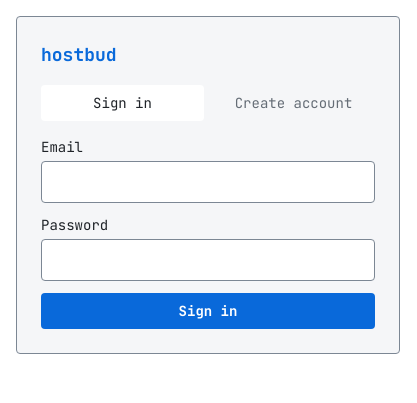
Test case: AuthView › shows the generic error on bad credentials
This screenshot has width=417, height=403.
In the field labelled "Email": coordinates (208, 182) [41,161,375,203], type "person@example.com"
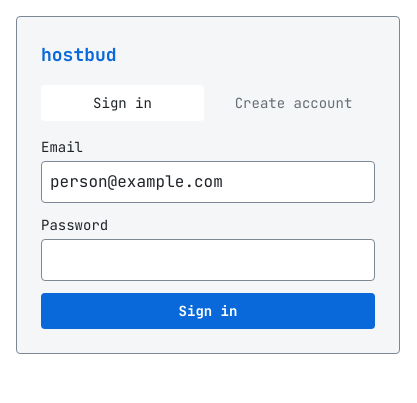
In the password field labelled "Password": coordinates (208, 260) [41,239,375,281], type "wrong password!"
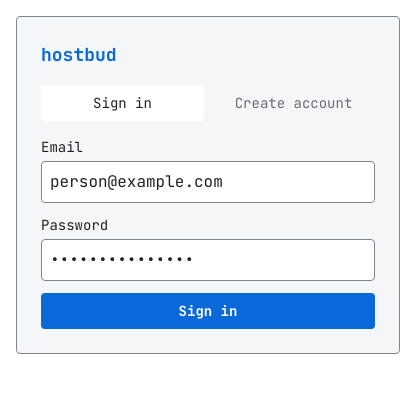
Submit the form, box [41,137,375,329]
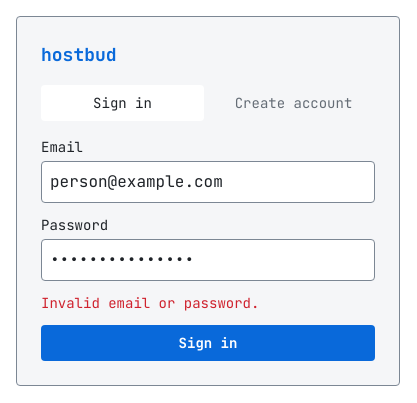
Expected: the message "Invalid email or password." is shown, [41,294,259,312]
